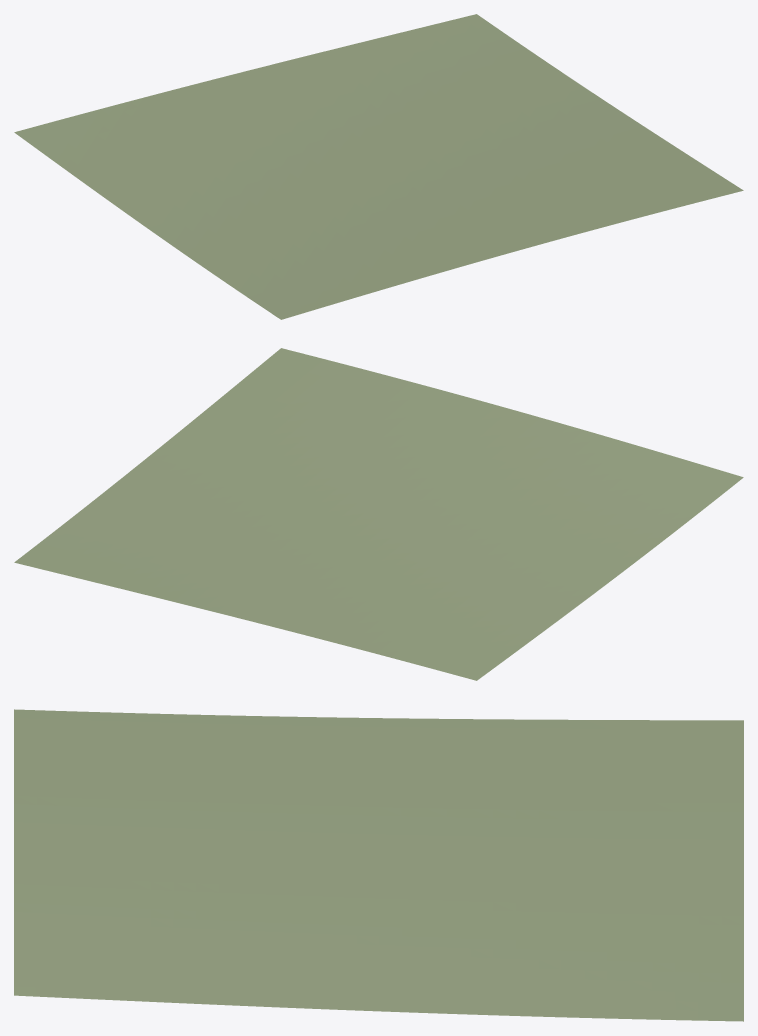
Rendered from expanse-6-20.glb.
3 views of the same model, one above another, from view 1: azimuth 30°, elevation 25°; view 2: azimuth 150°, elevation 25°; view 3: azimuth 270°, elevation 25° (orthographic). The views are drawn at different scales.
Parts seen in each view (by area): view 1: expanse-6-20; view 2: expanse-6-20; view 3: expanse-6-20.
Part boxes in pixels (x1=…): expanse-6-20: x1=14, y1=14, x2=743, y2=319; expanse-6-20: x1=14, y1=348, x2=743, y2=680; expanse-6-20: x1=14, y1=709, x2=743, y2=1021.
Size of the model in its own units: 256 by 12.88 by 256.
